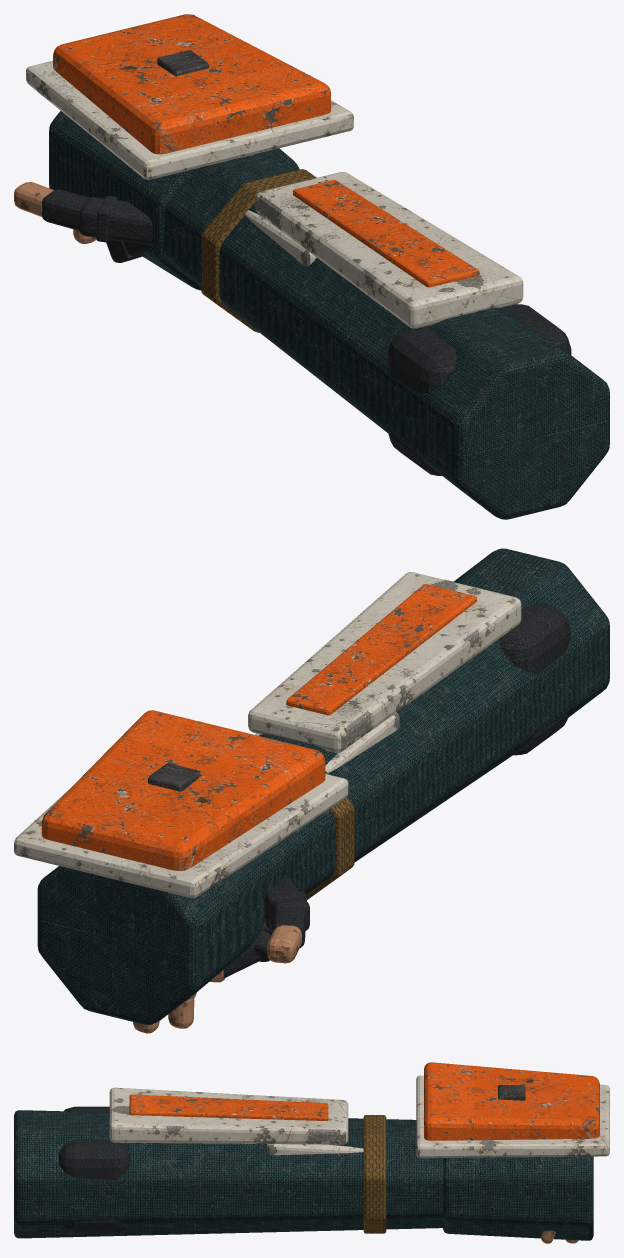
The model's file is hands.gltf.
3 renders of one model, top to bottom at view 1: azimuth 30°, elevation 25°; view 2: azimuth 150°, elevation 25°; view 3: azimuth 270°, elevation 25°, orthographic. The views are drawn at different scales.
Visible parts, largest first — view 1: upperarm, shoulder, forearm, support, grip; view 2: shoulder, upperarm, forearm, support, grip; view 3: upperarm, shoulder, forearm.
Boxes of the visible parts, left/top/right/bottom form: upperarm: left=164, top=150, right=609, bottom=519; shoulder: left=26, top=14, right=353, bottom=290; forearm: left=245, top=210, right=571, bottom=475; support: left=14, top=182, right=152, bottom=244; grip: left=106, top=239, right=147, bottom=262; shoulder: left=14, top=710, right=348, bottom=1024; upperarm: left=248, top=548, right=609, bottom=899; forearm: left=255, top=579, right=570, bottom=773; support: left=133, top=877, right=309, bottom=1033; grip: left=209, top=920, right=272, bottom=982; upperarm: left=14, top=1087, right=443, bottom=1238; shoulder: left=416, top=1062, right=609, bottom=1240; forearm: left=59, top=1106, right=363, bottom=1232.
Size of the model in its own units: 0.1602 by 0.1334 by 0.474.
Materials: 7 (7 with a texture image).
